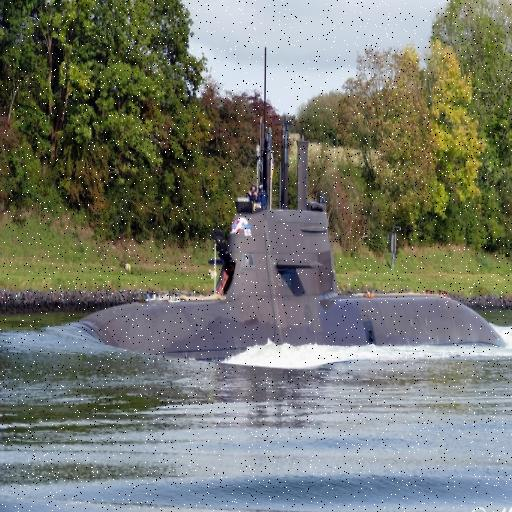submarine: (65, 126, 506, 353)
